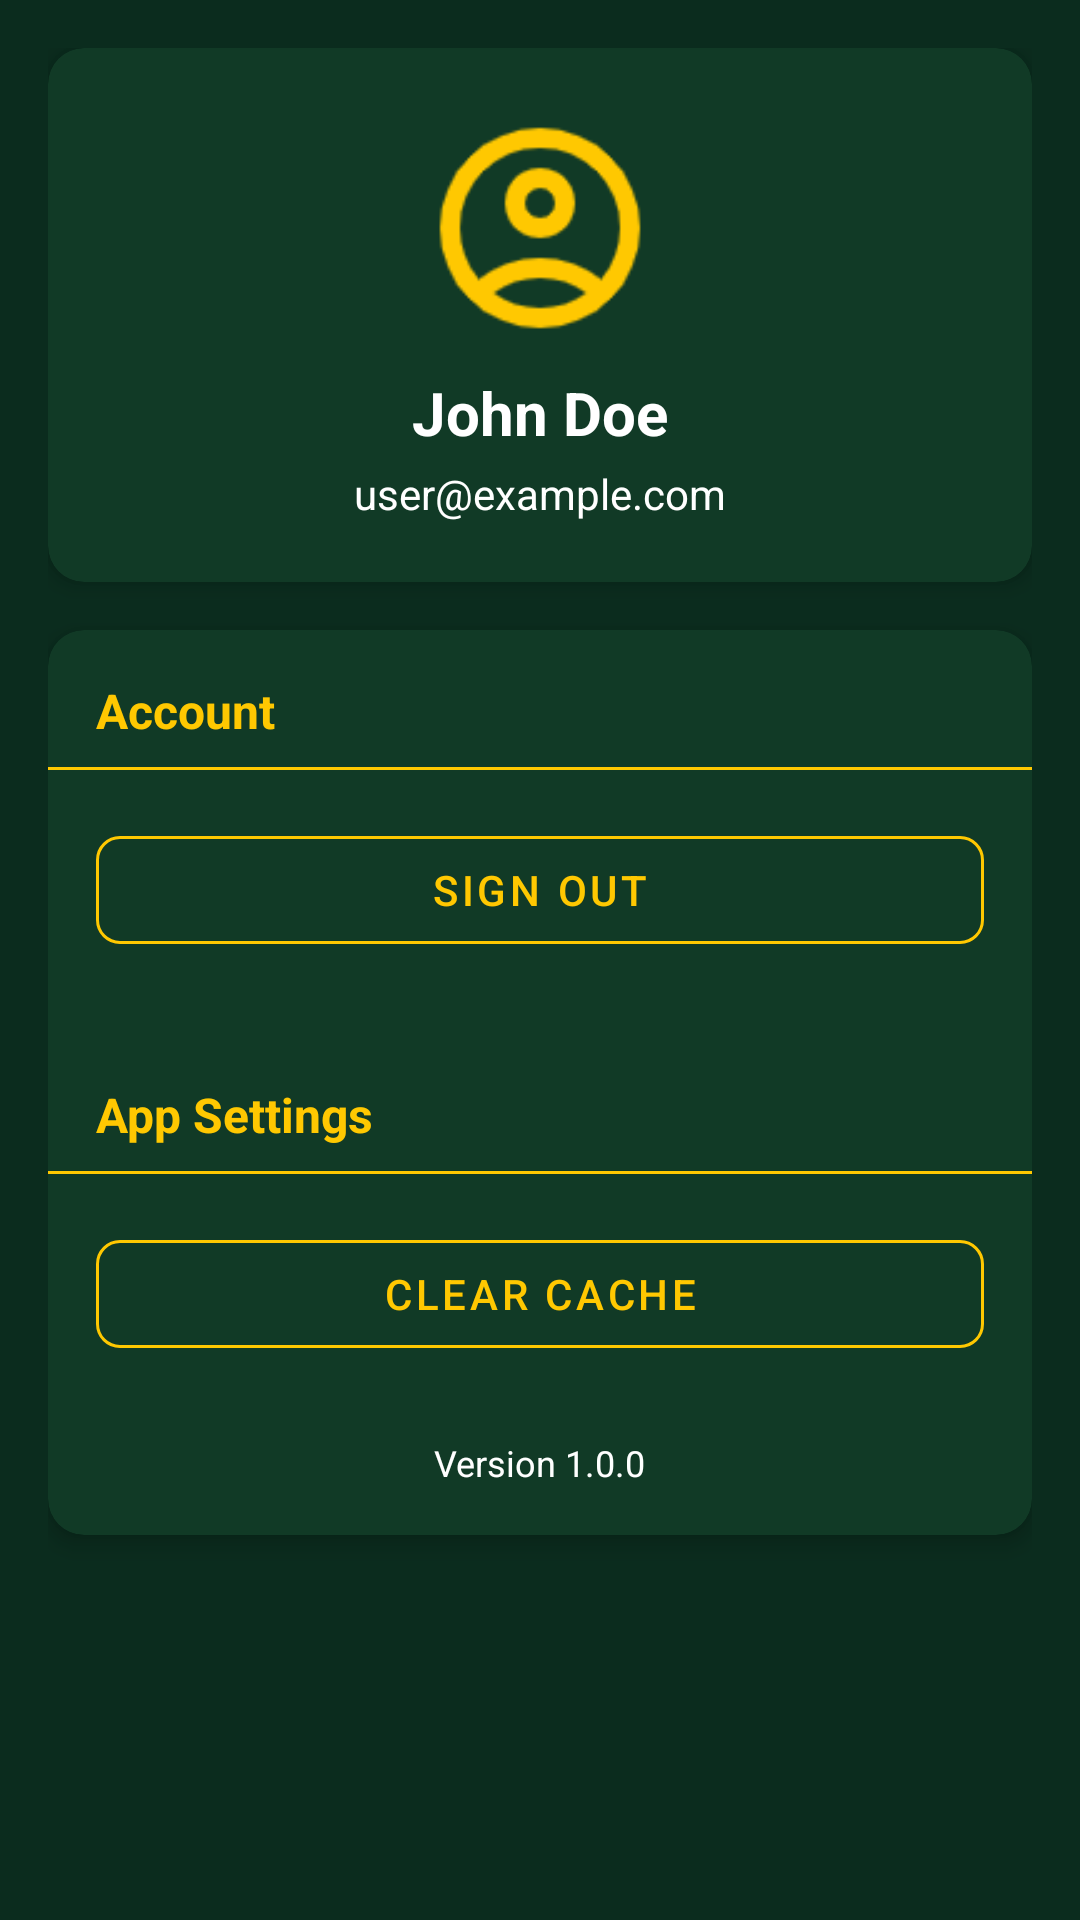

Icon click points for this 1080*1920 phone screenshot, format point (x, y):
User avatar: point (540, 228)
